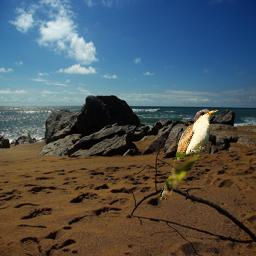Cuckoo: (157, 107, 220, 202)
